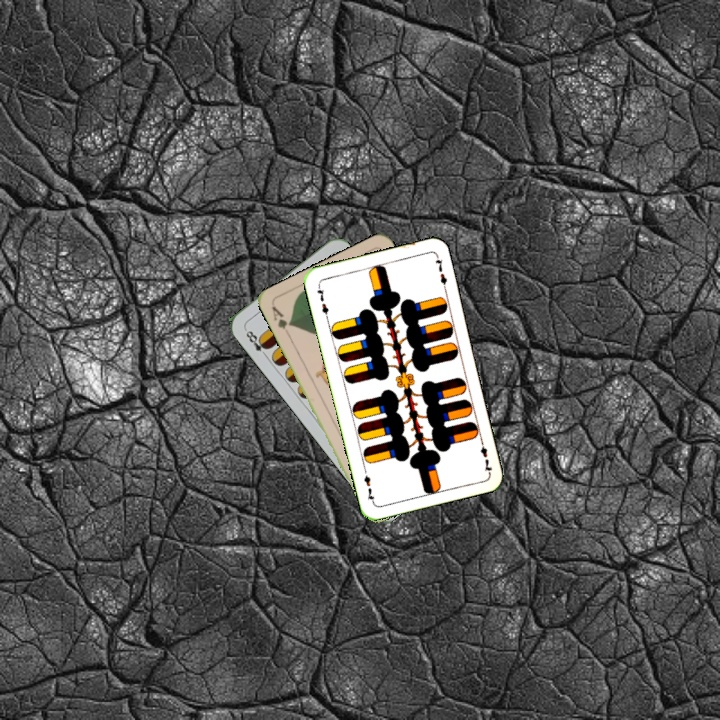E7: (476, 435, 495, 475), (313, 281, 331, 321)
E8: (240, 325, 271, 360)
GA: (268, 302, 294, 339)
